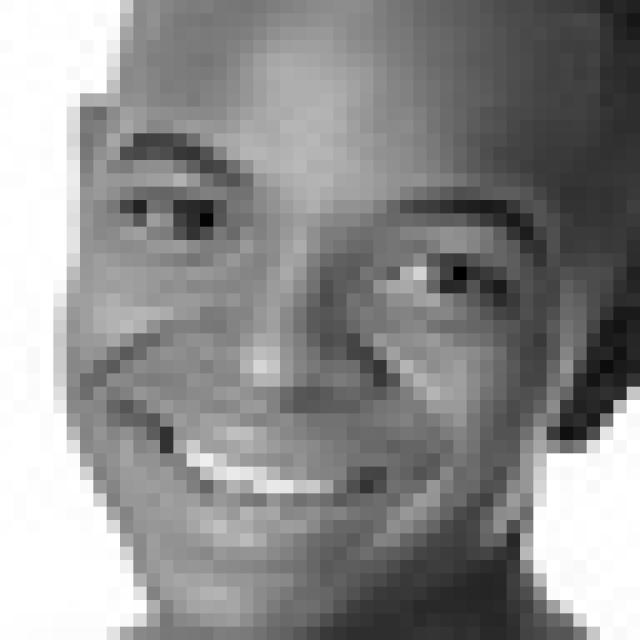happy: (77, 112, 565, 579)
